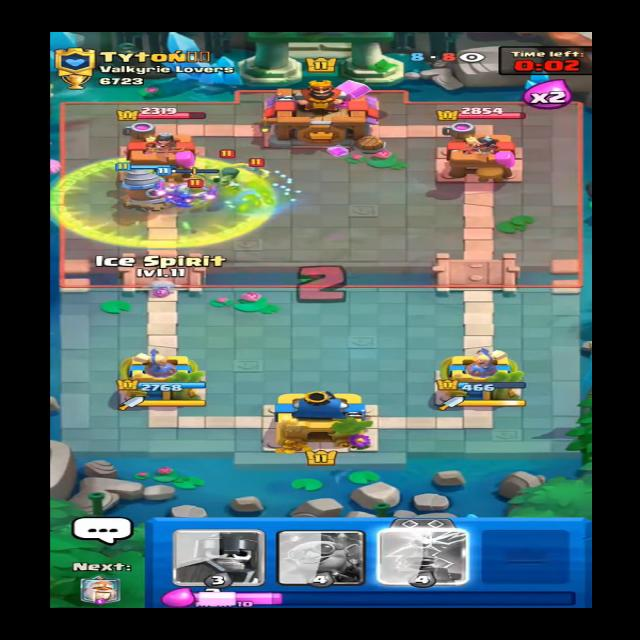bats: (236, 154, 282, 176)
night-witch: (203, 146, 254, 198)
